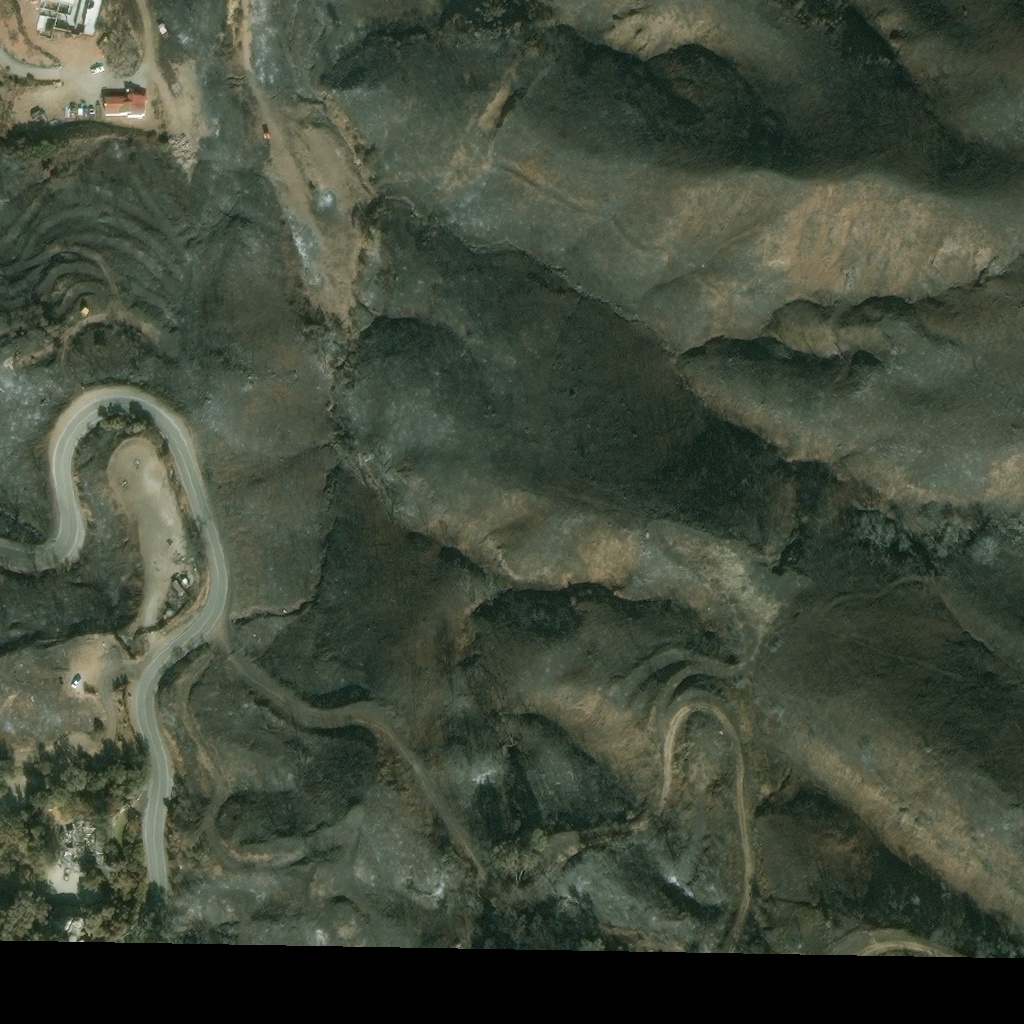0 no-damage: (105, 91, 148, 116)
2 major-damage: (85, 0, 101, 33), (183, 576, 192, 586)
3 destroyed: (70, 819, 106, 864), (173, 577, 186, 594), (180, 562, 196, 574), (158, 596, 166, 607)
